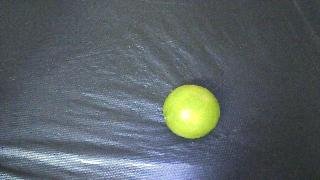LOCAL: (163, 85, 220, 139)
